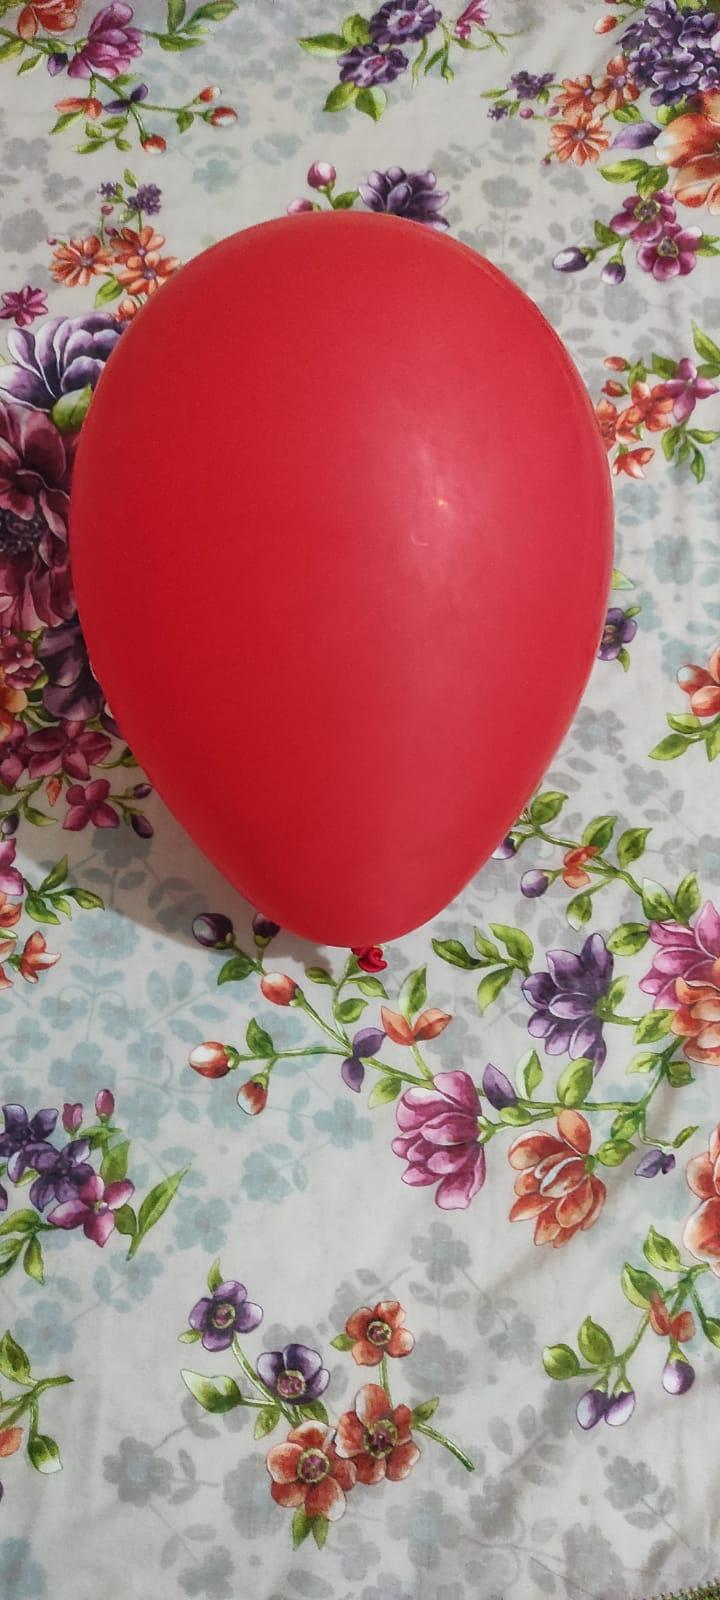red: (57, 201, 619, 978)
